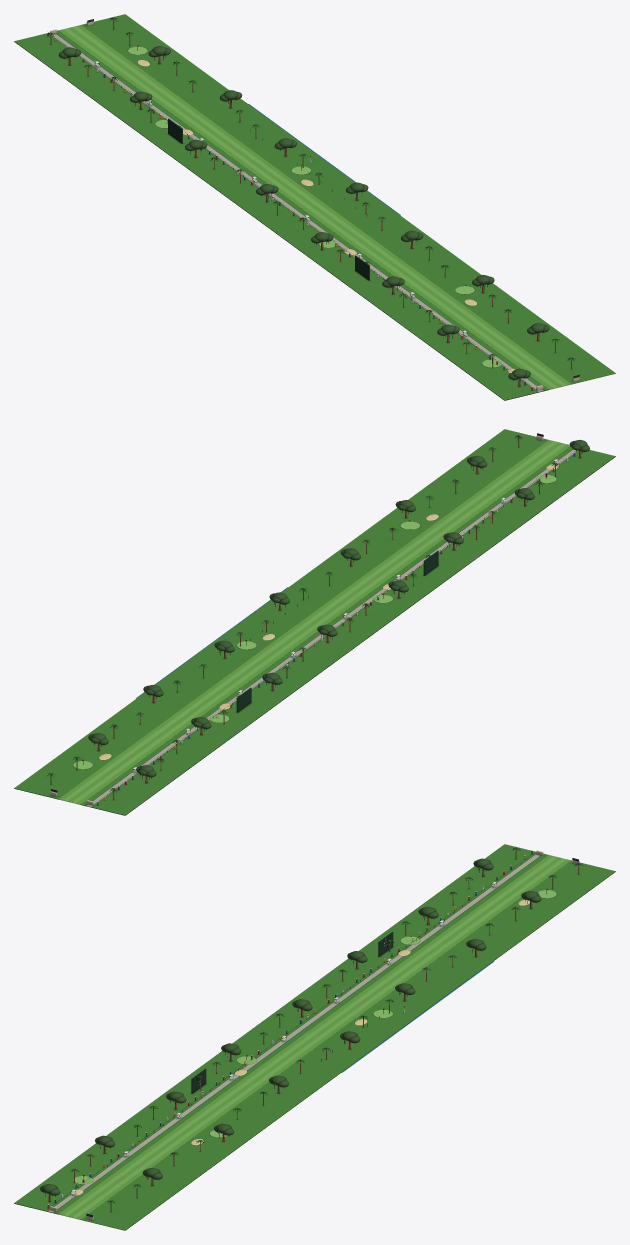
Rendered from campo_golf.glb.
3 views of the same model, one above another, from view 1: azimuth 30°, elevation 25°; view 2: azimuth 150°, elevation 25°; view 3: azimuth 330°, elevation 25° (orthographic).
Parts seen in each view (by area): view 1: campo_golf; view 2: campo_golf; view 3: campo_golf.
Part boxes in pixels (x1=…): campo_golf: x1=14, y1=14, x2=615, y2=400; campo_golf: x1=14, y1=429, x2=615, y2=815; campo_golf: x1=14, y1=844, x2=615, y2=1230.
Bounding box in the file's own units: 55.5 × 8.24 × 420.
Materials: 1 (1 with a texture image).
